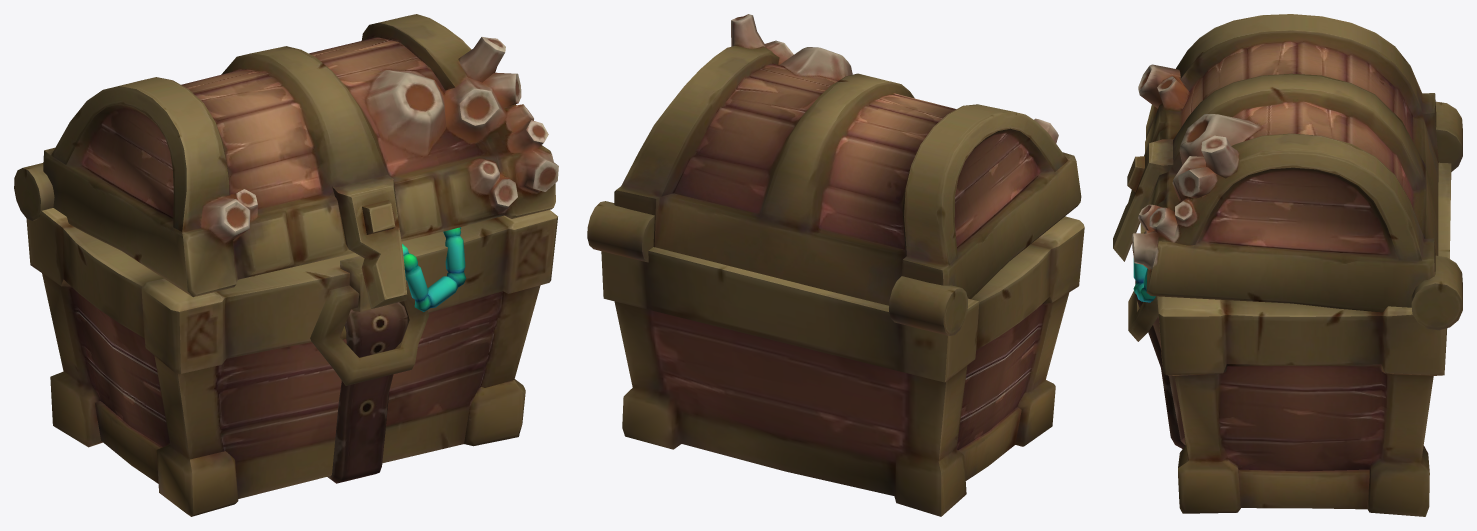
The model's file is chest.glb.
3 views of the same model, side by side, from view 1: azimuth 30°, elevation 25°; view 2: azimuth 150°, elevation 25°; view 3: azimuth 270°, elevation 25° (orthographic). The views are drawn at different scales.
Visible parts, largest first — view 1: Chest.smd-static; view 2: Chest.smd-static; view 3: Chest.smd-static.
Part boxes in pixels (<box>): Chest.smd-static: <box>14,14,558,516</box>; Chest.smd-static: <box>587,14,1084,516</box>; Chest.smd-static: <box>1113,14,1462,516</box>.
Size of the model in its own units: 1.99 by 1.87 by 1.6.
Materials: 1 (1 with a texture image).
